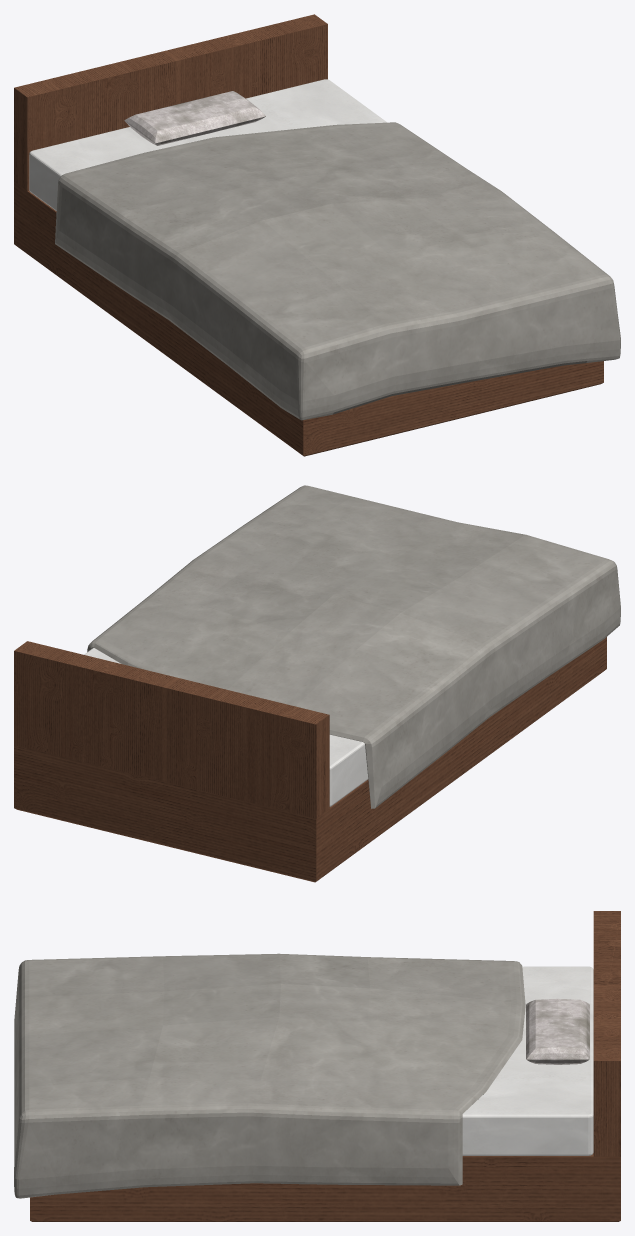
The model's file is bet.fbx.
The picture shows the model from 3 angles, top to bottom: view 1: azimuth 30°, elevation 25°; view 2: azimuth 150°, elevation 25°; view 3: azimuth 270°, elevation 25°; orthographic projection. The views are drawn at different scales.
Parts seen in each view (by area): view 1: bet; view 2: bet; view 3: bet.
Part boxes in pixels (x1,y1,x2,y2): bet: (14,14,620,456); bet: (14,485,620,882); bet: (14,911,620,1221).
Size of the model in its own units: 128 by 60.4 by 205.
